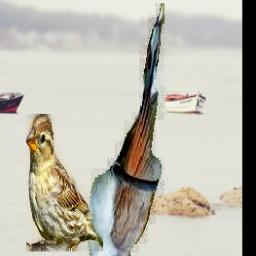Cuckoo: (87, 3, 164, 256)
Sparrow: (25, 114, 102, 251)
